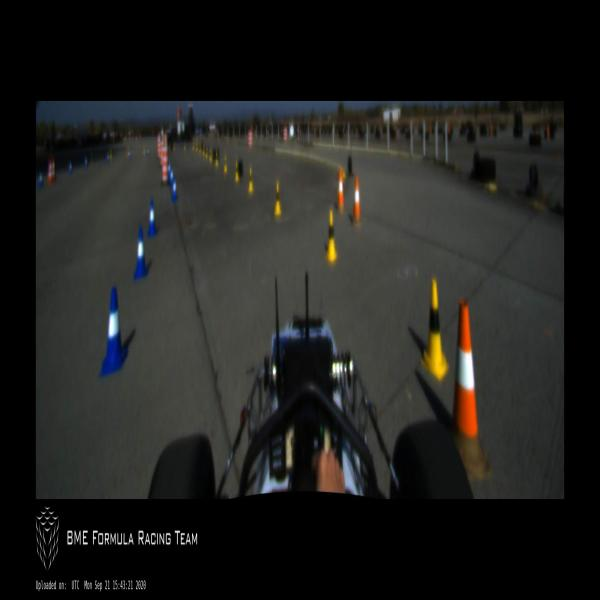blue_cone: (99, 287, 127, 378), (133, 225, 148, 281), (147, 198, 157, 238), (172, 176, 177, 202), (170, 168, 173, 187), (84, 154, 88, 168), (39, 171, 42, 187), (69, 158, 72, 174), (146, 146, 150, 158), (106, 150, 109, 164), (168, 158, 170, 175), (129, 147, 131, 157)
large_orange_cone: (47, 160, 52, 183), (52, 158, 56, 182)
unknown_cone: (450, 299, 490, 478), (352, 174, 362, 228), (337, 169, 345, 215)
yellow_cone: (421, 279, 449, 380), (324, 210, 338, 263), (274, 182, 281, 218), (248, 168, 253, 194), (235, 162, 239, 182), (224, 156, 227, 173), (215, 152, 218, 168), (209, 149, 212, 163), (202, 143, 205, 154), (195, 140, 198, 151), (109, 149, 112, 160), (206, 146, 208, 160), (199, 141, 201, 154), (184, 138, 186, 151), (192, 139, 194, 150), (126, 146, 128, 157), (143, 144, 145, 154)
